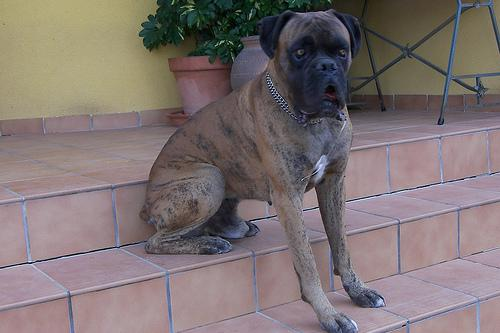dog-boxer: (258, 7, 361, 111)
